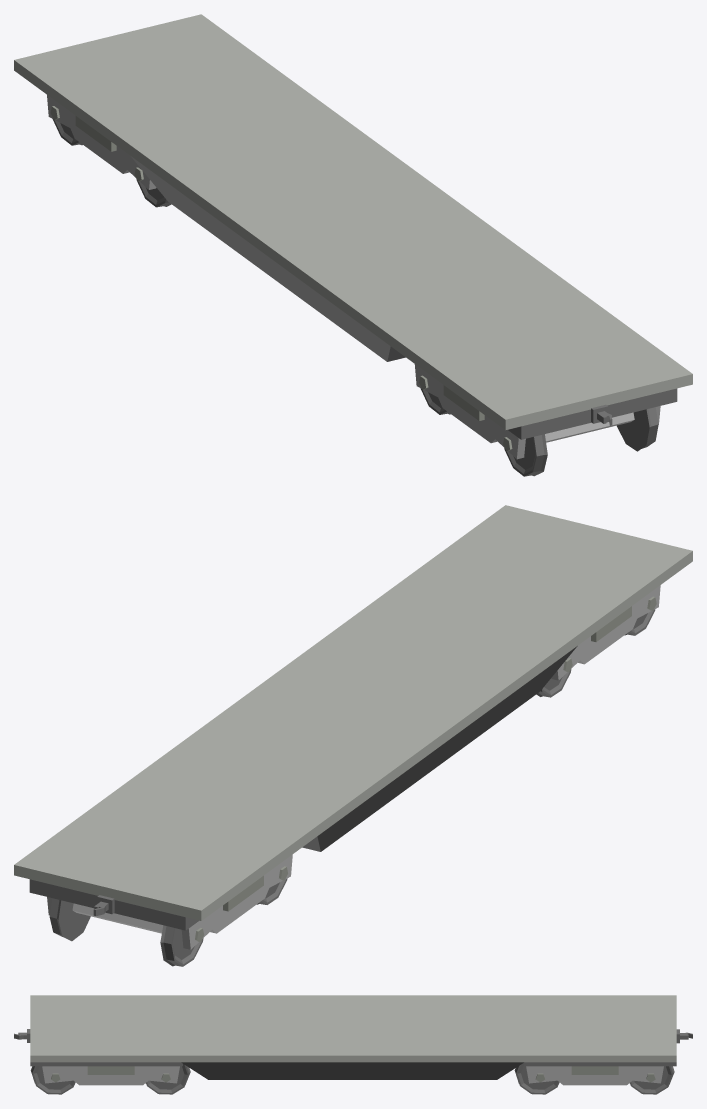
File: SM_Platform_01.fbx
3 renders of one model, top to bottom at view 1: azimuth 30°, elevation 25°; view 2: azimuth 150°, elevation 25°; view 3: azimuth 270°, elevation 25°, orthographic. The views are drawn at different scales.
Parts seen in each view (by area): view 1: SM_Platform_01; view 2: SM_Platform_01; view 3: SM_Platform_01.
Part boxes in pixels (<box>): SM_Platform_01: <box>14,14,692,476</box>; SM_Platform_01: <box>14,505,692,966</box>; SM_Platform_01: <box>14,995,692,1094</box>.
Size of the model in its own units: 264 by 104 by 1260.
